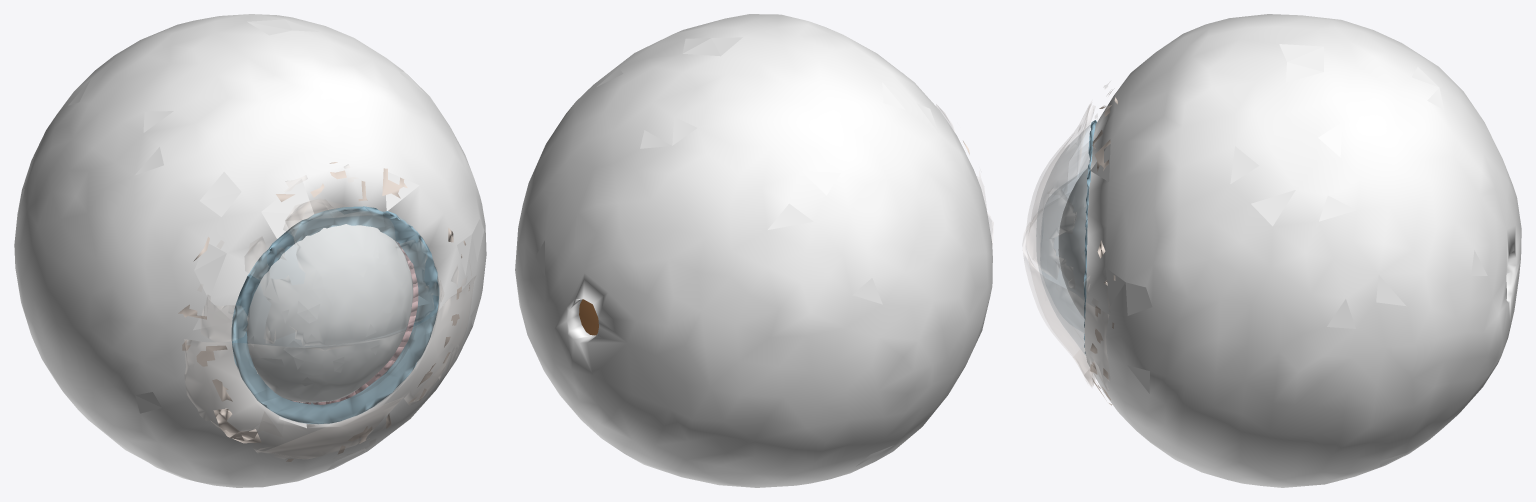
File: 3d-vh-m-eye-r-20.glb
The picture shows the model from 3 angles, left to right: view 1: azimuth 30°, elevation 25°; view 2: azimuth 150°, elevation 25°; view 3: azimuth 270°, elevation 25°; orthographic projection.
Visible parts, largest first — view 1: VH_M_sclera_R, VH_M_cornea_R, VH_M_palpebral_conjunctiva_of_lower_eyelid_R, VH_M_aqueous_humor_R, VH_M_palpebral_conjunctiva_of_upper_eyelid_R, VH_M_corneo_scleral_junction_R, VH_M_bulbar_conjunctiva_R, VH_M_ciliary_muscle_R; view 2: VH_M_sclera_R, VH_M_optic_choroid_R; view 3: VH_M_sclera_R, VH_M_cornea_R, VH_M_palpebral_conjunctiva_of_lower_eyelid_R, VH_M_palpebral_conjunctiva_of_upper_eyelid_R, VH_M_aqueous_humor_R, VH_M_bulbar_conjunctiva_R, VH_M_corneo_scleral_junction_R.
Part boxes in pixels (x1,y1,x2,y2): VH_M_sclera_R: [14, 14, 486, 487]; VH_M_cornea_R: [234, 208, 439, 423]; VH_M_palpebral_conjunctiva_of_lower_eyelid_R: [184, 276, 475, 458]; VH_M_aqueous_humor_R: [246, 224, 413, 402]; VH_M_palpebral_conjunctiva_of_upper_eyelid_R: [198, 165, 471, 345]; VH_M_corneo_scleral_junction_R: [231, 206, 439, 423]; VH_M_bulbar_conjunctiva_R: [178, 162, 469, 461]; VH_M_ciliary_muscle_R: [292, 242, 418, 404]; VH_M_sclera_R: [515, 14, 992, 487]; VH_M_optic_choroid_R: [579, 299, 598, 335]; VH_M_sclera_R: [1084, 14, 1521, 487]; VH_M_cornea_R: [1036, 122, 1094, 354]; VH_M_palpebral_conjunctiva_of_lower_eyelid_R: [1023, 216, 1109, 390]; VH_M_palpebral_conjunctiva_of_upper_eyelid_R: [1026, 83, 1109, 311]; VH_M_aqueous_humor_R: [1058, 168, 1088, 317]; VH_M_bulbar_conjunctiva_R: [1090, 90, 1117, 405]; VH_M_corneo_scleral_junction_R: [1083, 120, 1096, 353].
Size of the model in its own units: 0.0245 by 0.0244 by 0.0258.
